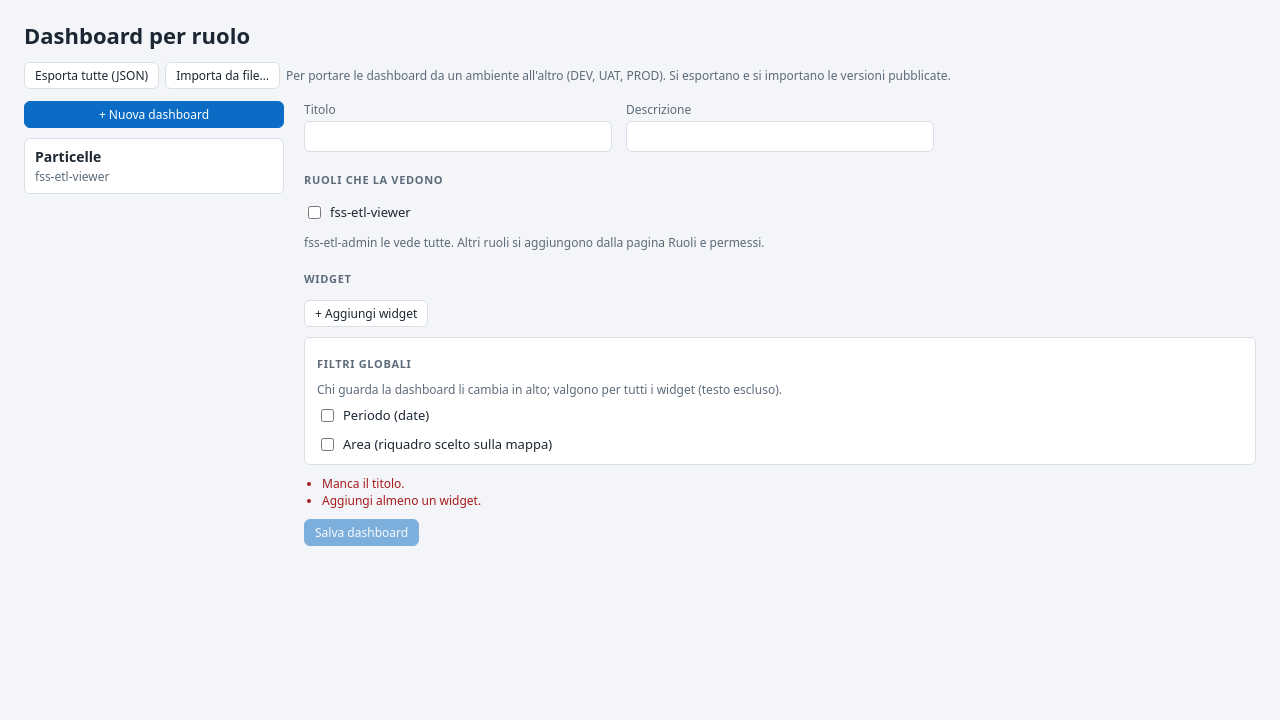
Test: AdminDashboards: duplica, esporta, importa › duplica: nuova bozza con '(copia)'
The image size is (1280, 720).
Click the button "Particelle fss-etl-viewer".
click(68, 156)  # box x1=24 y1=138 x2=284 y2=194
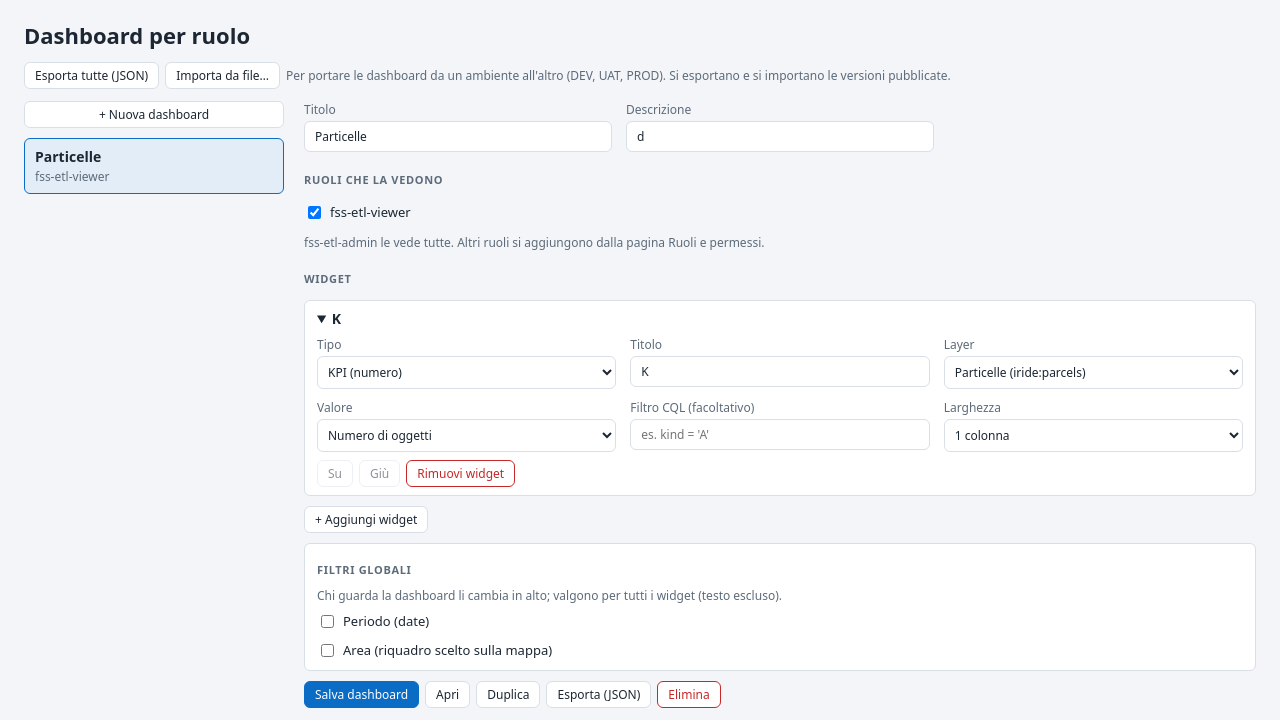
Click the button "Duplica".
click(508, 694)  # box x1=476 y1=681 x2=540 y2=708
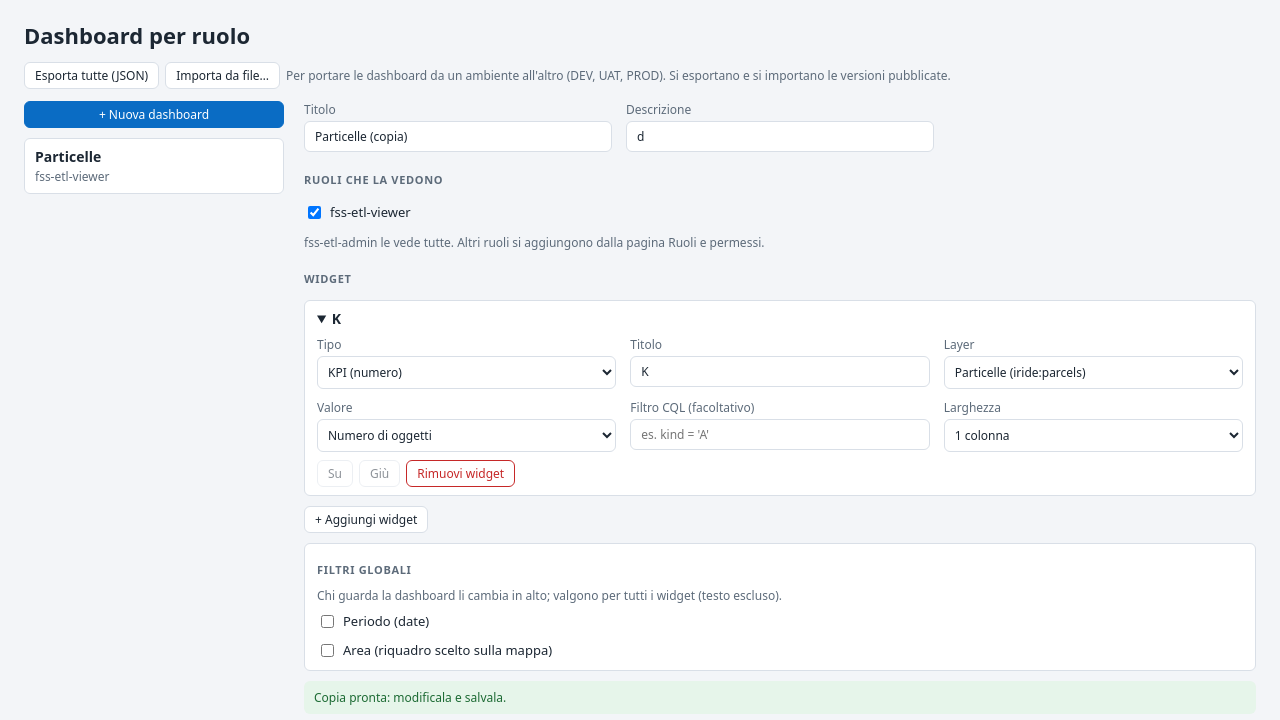
Now the field labelled "Titolo" below "Descrizione" holds "Particelle (copia)", box x1=304 y1=121 x2=612 y2=152
Now the button "Duplica" is gone
